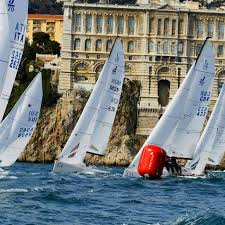buoy: (138, 144, 165, 181)
